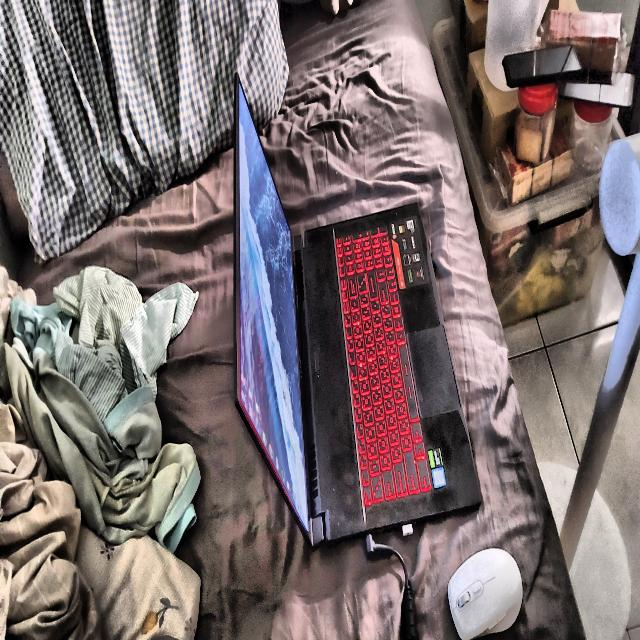Laptop: (233, 74, 481, 546)
MOUSE: (448, 548, 522, 640)
